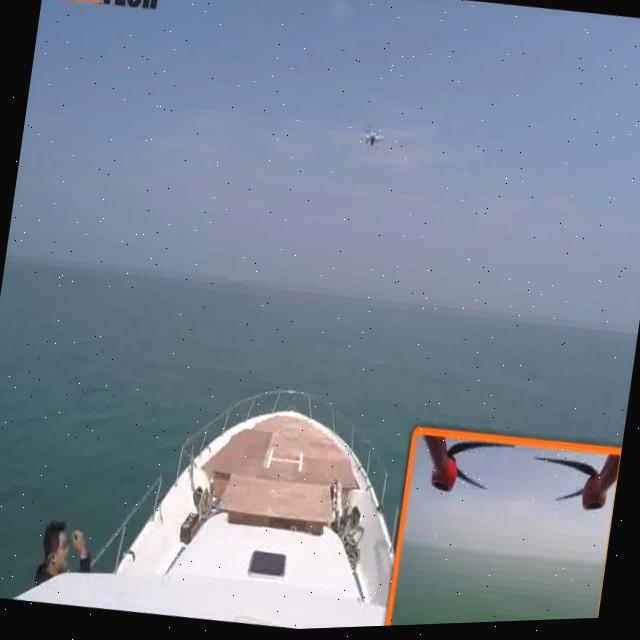drone: (355, 117, 393, 164)
